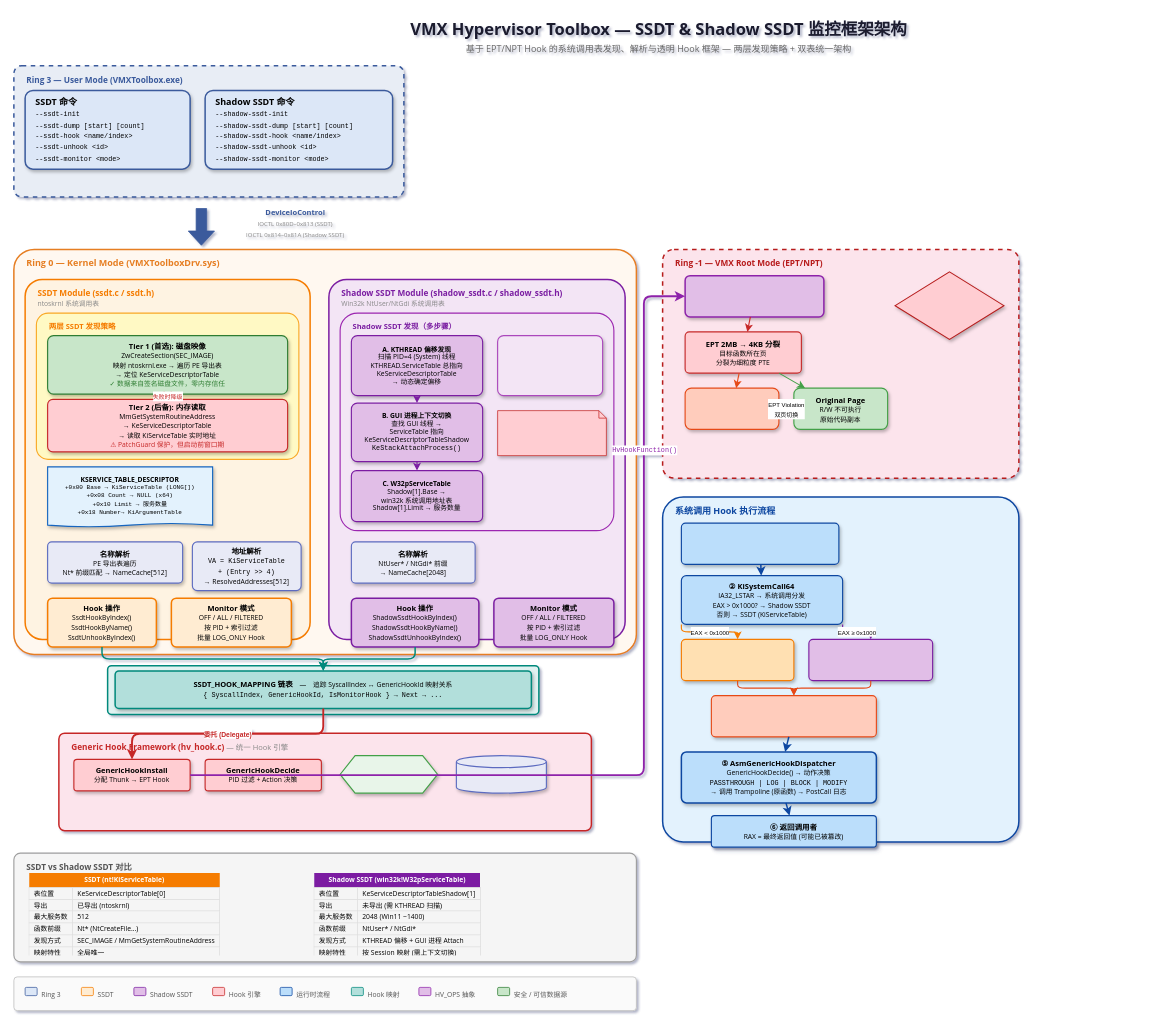
Some shapes in this 1163 by 1028 pixel diagram are drawn without their labels. The centre of each missing label's shape, as x and y in pixels:
"D. Win10+ 模块枚举 win32k.sys (stub) win32kbase.sys win32kfull.sys 遍历三个导出表解析名称" belongs at pixel 550 366.
"EPT Violation Handler 读/写 → 切 Original 页 MTF 单步 → 切回 Hook 页" belongs at pixel 950 306.
"Event Ring HookLogEvent()" belongs at pixel 501 775.
"Hook Page Execute-Only 含 JMP → Thunk" belongs at pixel 732 409.
"HV_OPS Vtable g_HvOps→HookFunction() g_HvOps→UnhookFunction()" belongs at pixel 755 297.
"Thunk Stubs Asm Dispatcher" belongs at pixel 389 775.
"① 用户态 SYSCALL 指令 Ring 3 → Ring 0 转换 RCX = 返回地址, EAX = 系统调用号" belongs at pixel 760 544.
"③a SSDT 分发 KiServiceTable[EAX] → Nt* 函数入口" belongs at pixel 738 660.
"③b Shadow SSDT 分发 W32pServiceTable[EAX-0x1000] → NtUser*/NtGdi* 入口" belongs at pixel 871 660.
"④ EPT: 执行重定向 函数入口在 Hook Page (Execute-Only) CPU 执行 → 跳转到 Thunk Stub" belongs at pixel 794 717.
"⚠ win32k 按 Session 映射 所有 W32pServiceTable 读取 必须在 GUI 进程上下文中" belongs at pixel 552 434.
